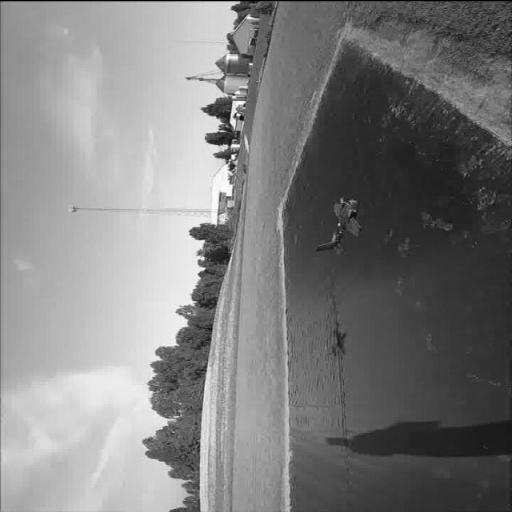uav: (308, 192, 378, 254)
